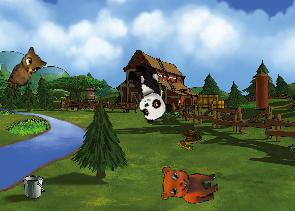bear: (157, 159, 220, 207)
owl: (5, 44, 50, 98)
panda: (121, 58, 175, 125)
